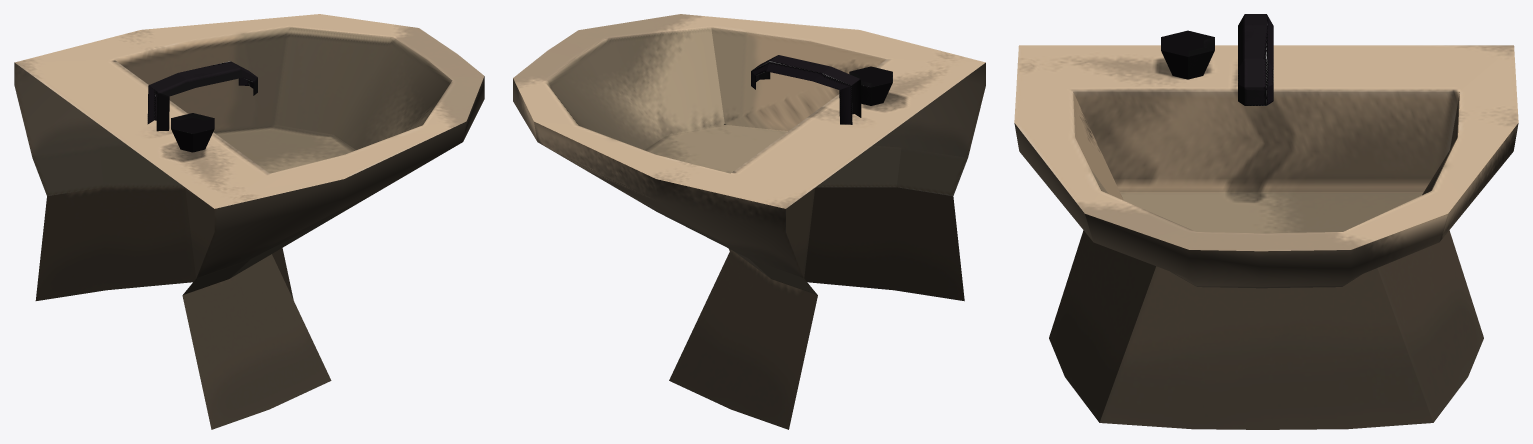
File: Tx_prop_sink_5.fbx
3 renders of one model, left to right at view 1: azimuth 30°, elevation 25°; view 2: azimuth 150°, elevation 25°; view 3: azimuth 270°, elevation 25°, orthographic. The views are drawn at different scales.
Visible parts, largest first — view 1: polySurface41, polySurface23, polySurface24; view 2: polySurface41, polySurface23, polySurface24; view 3: polySurface41, polySurface23, polySurface24.
Part boxes in pixels (<box>): polySurface41: <box>14,14,484,429</box>; polySurface23: <box>147,61,257,131</box>; polySurface24: <box>171,113,214,152</box>; polySurface41: <box>513,14,985,429</box>; polySurface23: <box>751,55,861,124</box>; polySurface24: <box>849,66,892,105</box>; polySurface41: <box>1014,45,1518,429</box>; polySurface23: <box>1238,14,1273,105</box>; polySurface24: <box>1161,30,1214,79</box>.
Size of the model in its own units: 5.08 by 3.97 by 5.25.
